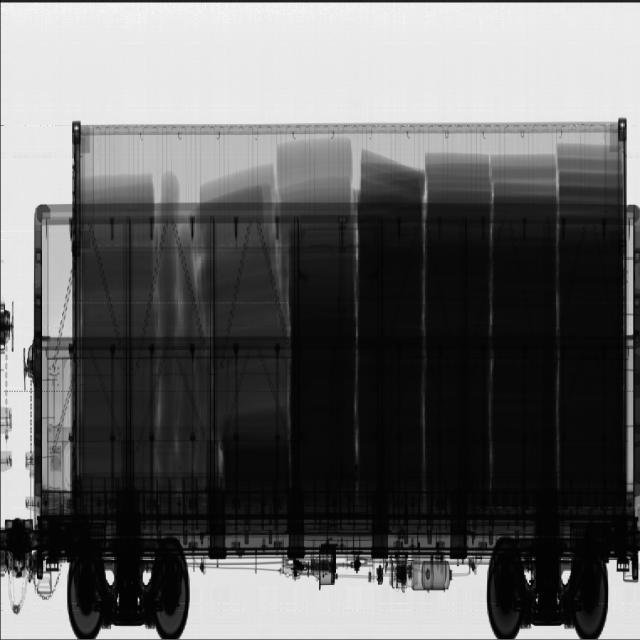fabrics: (76, 138, 624, 496)
